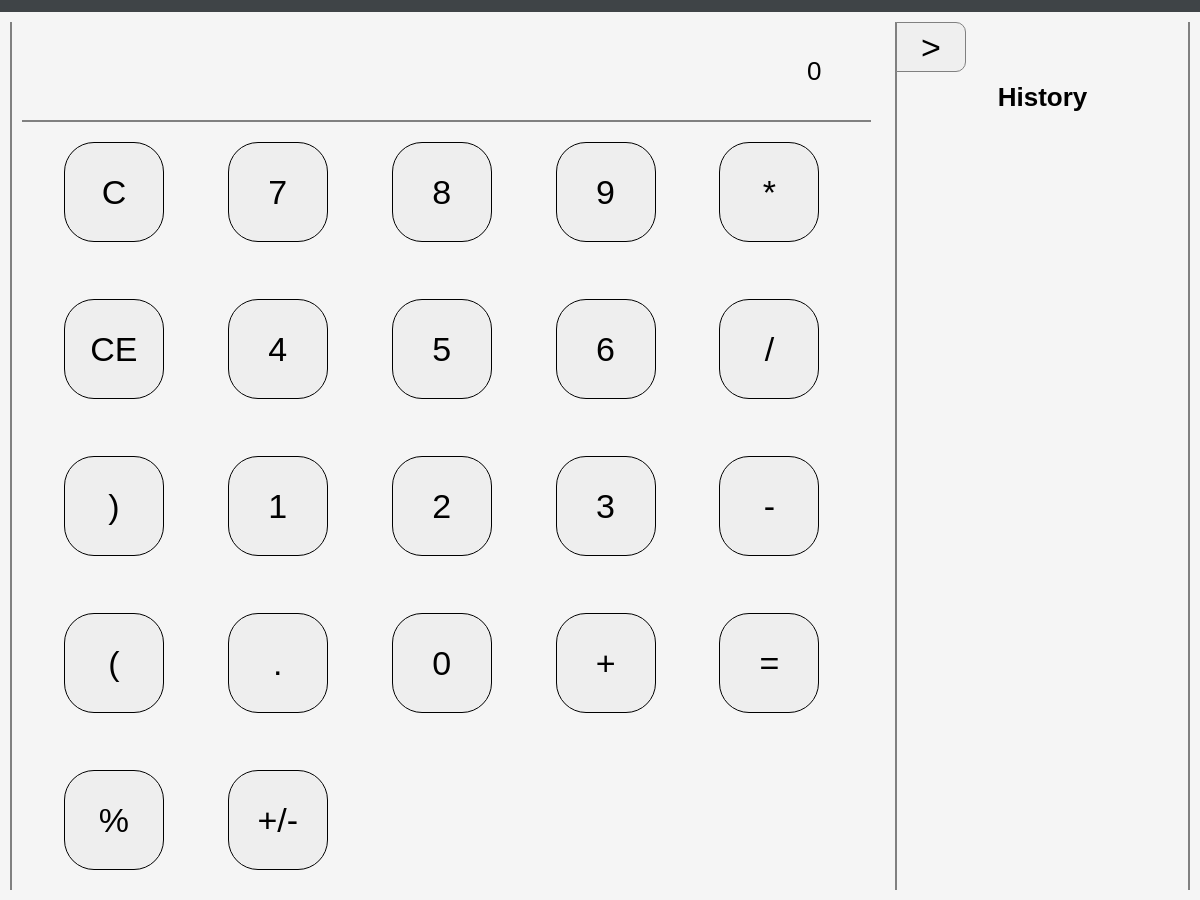
Keypad tests › Toggle negative
The width and height of the screenshot is (1200, 900).
(page scrolled)
Click the button with test id "negative" at (278, 820), box [228,770,328,870]
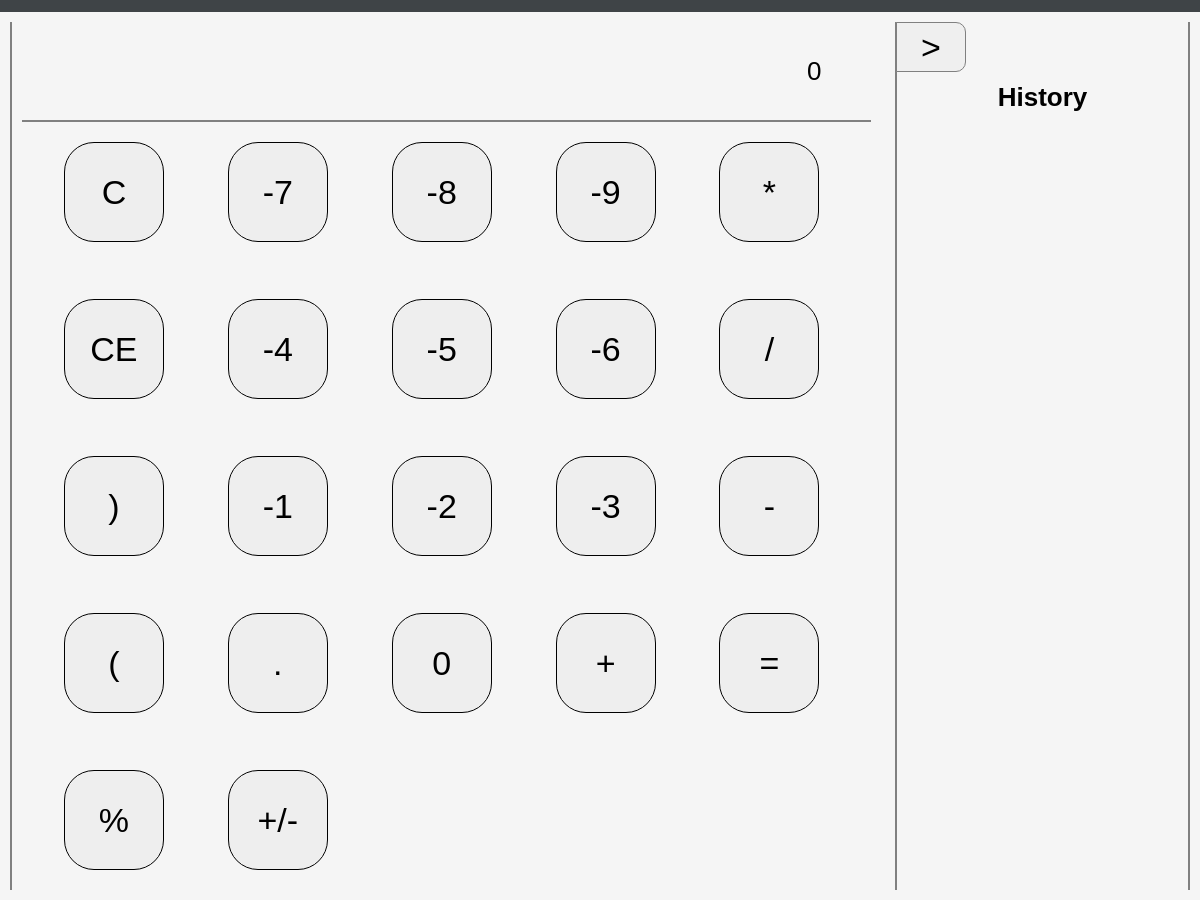
Expected: the button with test id "button-1" reads "-1", [228,456,328,556]
Expected: the button with test id "button-2" reads "-2", [392,456,492,556]
Expected: the button with test id "button-3" reads "-3", [556,456,656,556]
Click the button with test id "negative" at (278, 820), box [228,770,328,870]
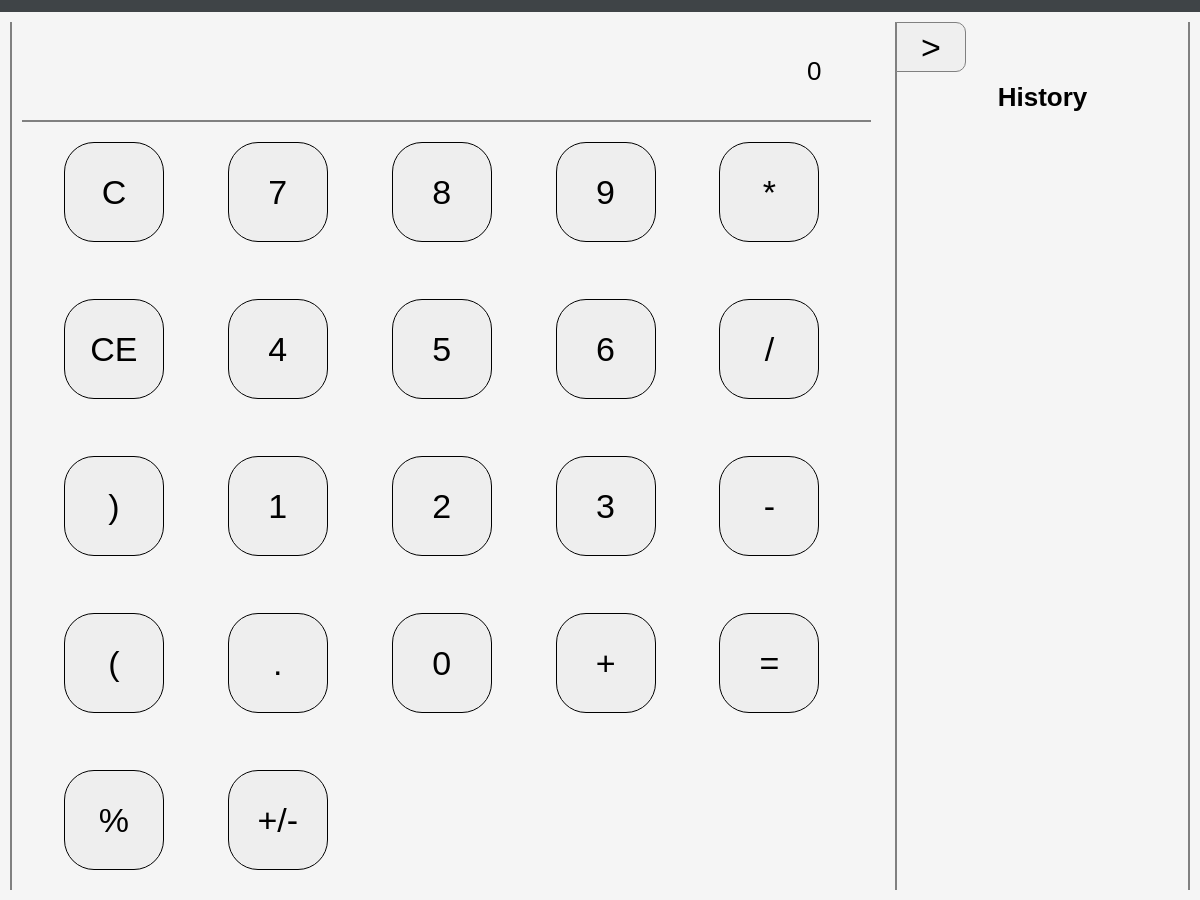
Expected: the button with test id "button-1" reads "1", [228,456,328,556]
Expected: the button with test id "button-2" reads "2", [392,456,492,556]
Expected: the button with test id "button-3" reads "3", [556,456,656,556]
